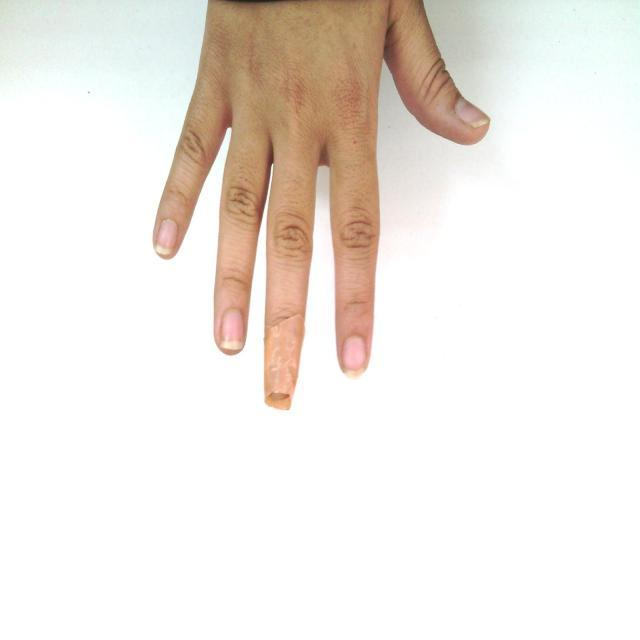Fingernail: (221, 310, 244, 350), (456, 99, 488, 127), (343, 336, 365, 376), (156, 221, 177, 253)
